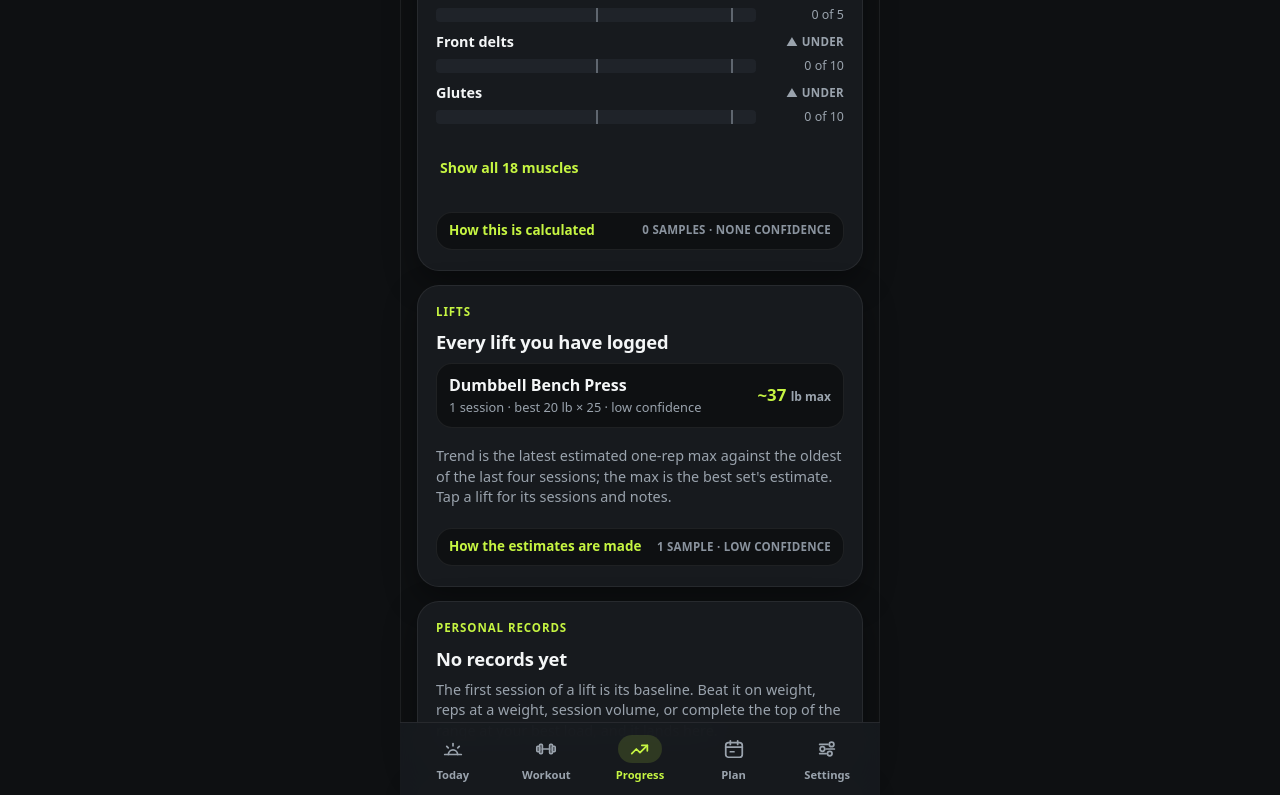
Test: Progress, every lift once › reads a session on the lift’s own sheet as its row does (Maintenance 25)
(page scrolled)
Expected: the element with test id "lift-estimate" reads "~37 lb max", [758, 383, 831, 408]
Click the button with test id "exercise-progress-row": (640, 396) [436, 363, 844, 428]
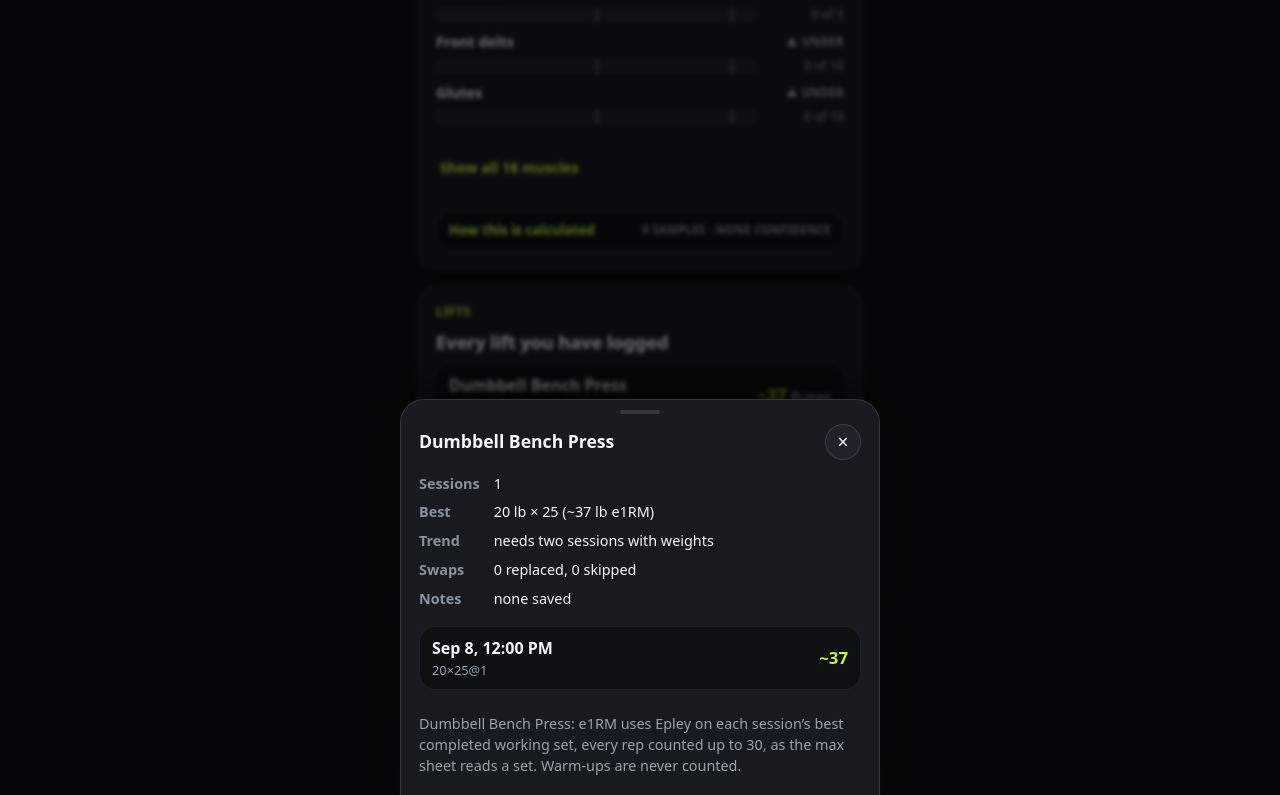
Expected: the text "~37" is shown, [819, 646, 848, 670]
